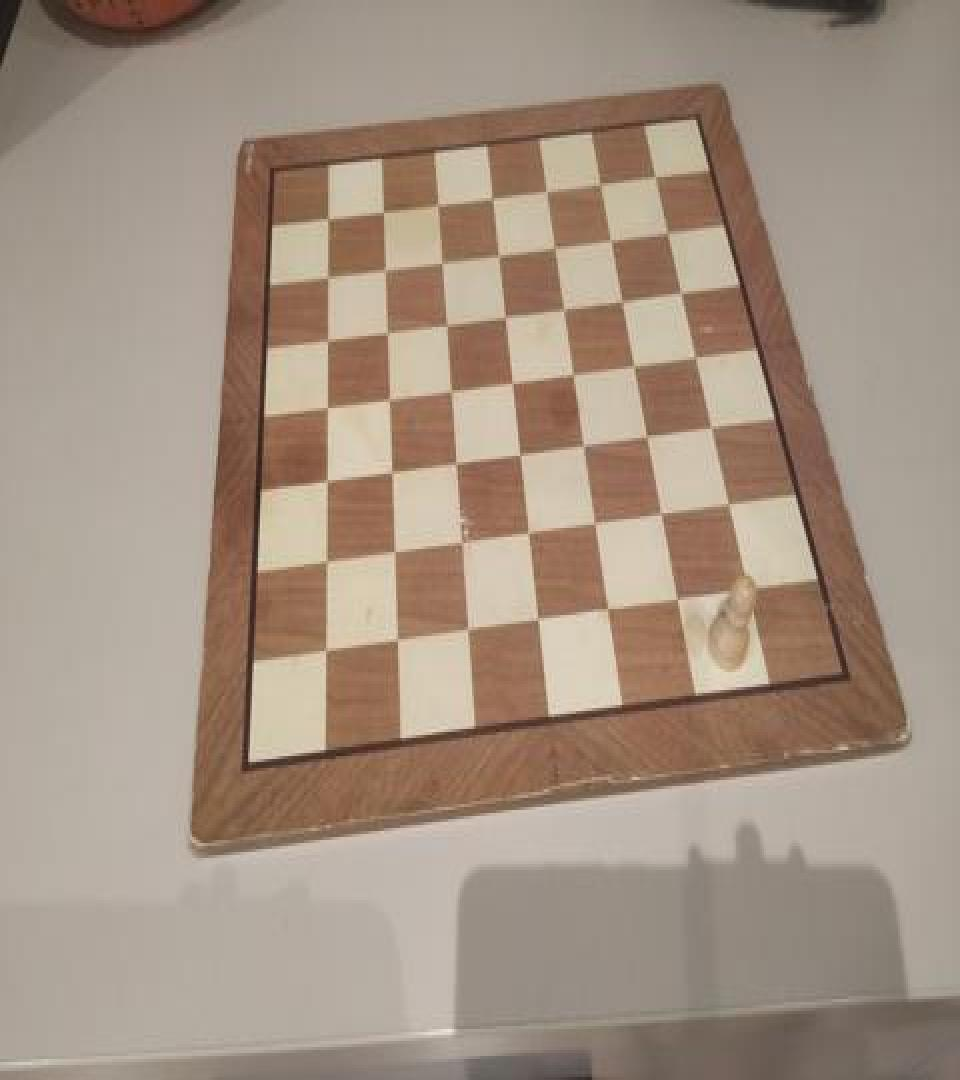xcorner: (519, 520, 537, 548), (379, 460, 397, 488), (565, 358, 583, 386), (689, 340, 707, 368), (435, 310, 453, 338), (555, 292, 573, 320), (674, 274, 692, 302), (373, 256, 391, 284), (489, 238, 507, 266), (661, 214, 679, 242), (593, 166, 611, 194), (312, 642, 330, 669), (528, 609, 546, 636), (600, 597, 618, 624), (671, 587, 689, 614), (741, 574, 759, 601), (382, 543, 400, 570), (451, 531, 469, 558), (587, 510, 605, 537), (655, 499, 673, 526), (722, 489, 740, 516), (313, 471, 331, 498), (445, 452, 463, 479), (511, 441, 529, 468), (576, 432, 594, 459), (705, 411, 723, 438), (314, 396, 332, 423), (377, 387, 395, 414), (440, 378, 458, 405), (503, 368, 521, 395), (627, 350, 645, 377), (314, 327, 332, 354), (375, 318, 393, 345), (495, 302, 513, 329), (615, 284, 633, 311), (315, 264, 333, 291), (546, 231, 564, 258), (604, 222, 622, 249), (371, 198, 389, 225), (427, 189, 445, 216), (483, 181, 501, 208), (538, 174, 556, 201), (648, 157, 666, 184), (385, 632, 403, 658), (457, 620, 475, 646), (313, 554, 331, 580), (640, 422, 658, 448), (431, 248, 449, 274), (315, 206, 333, 232)
